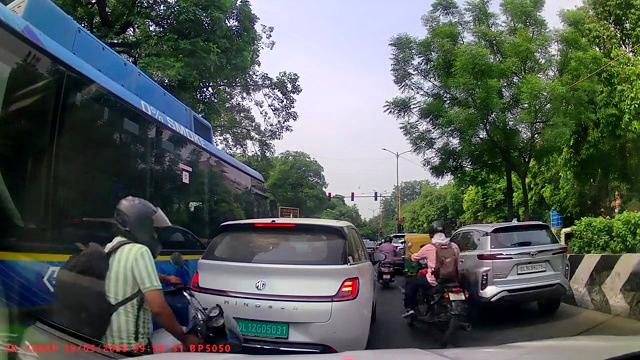motorcycle_with_helmet: (49, 190, 243, 354), (402, 219, 473, 344)
